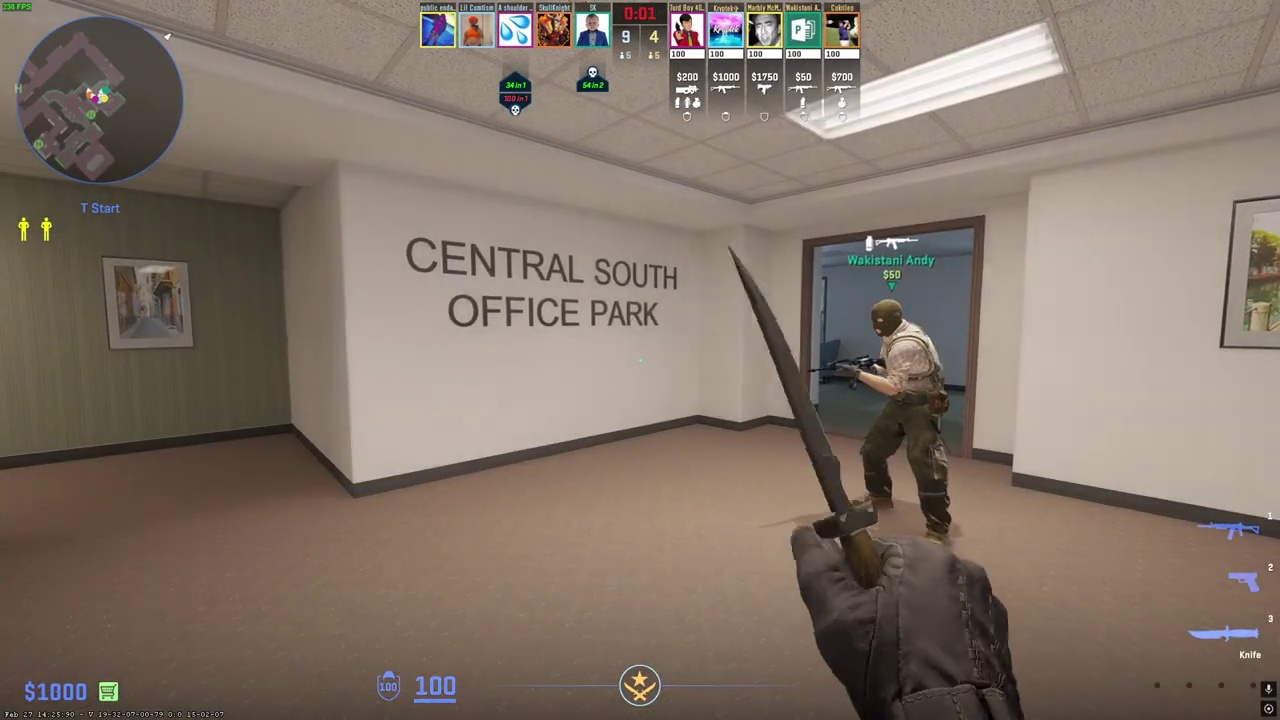Terrorist: (855, 299, 952, 547)
